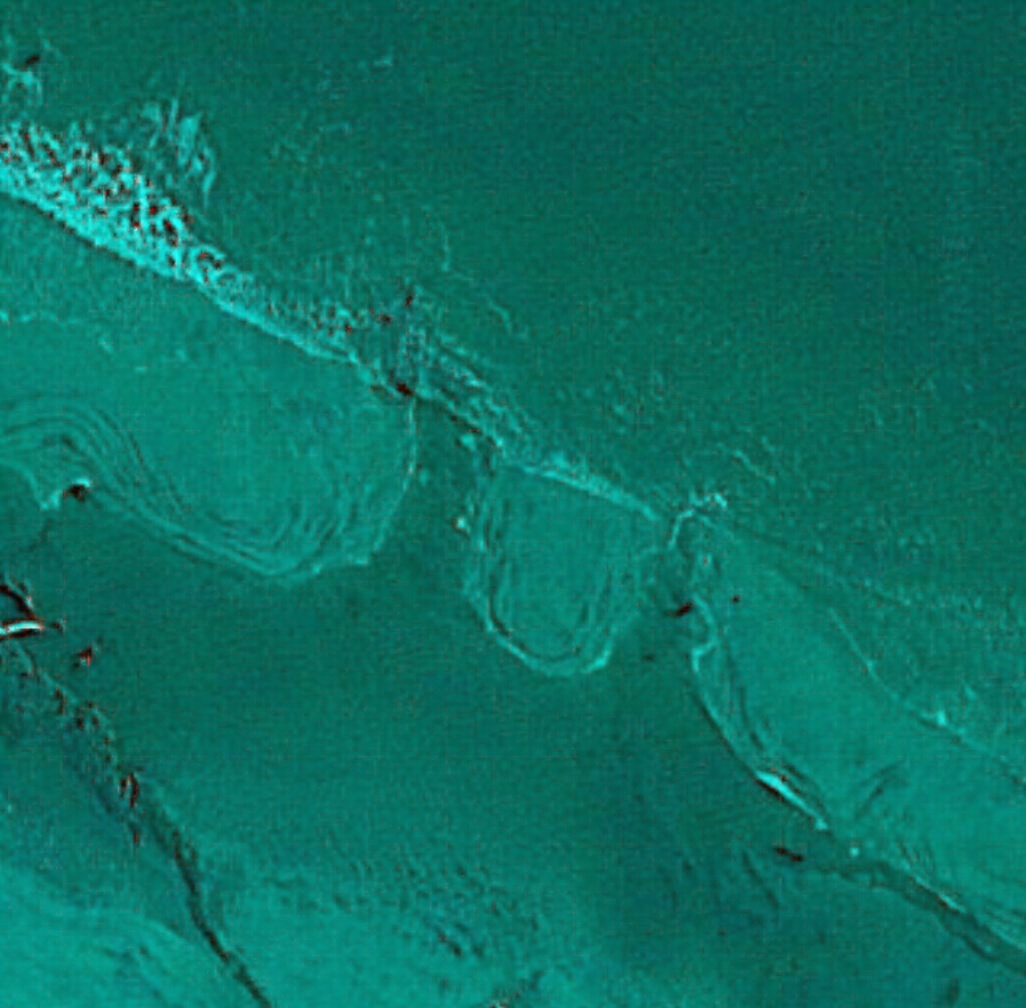rip_current: (377, 340, 506, 616)
